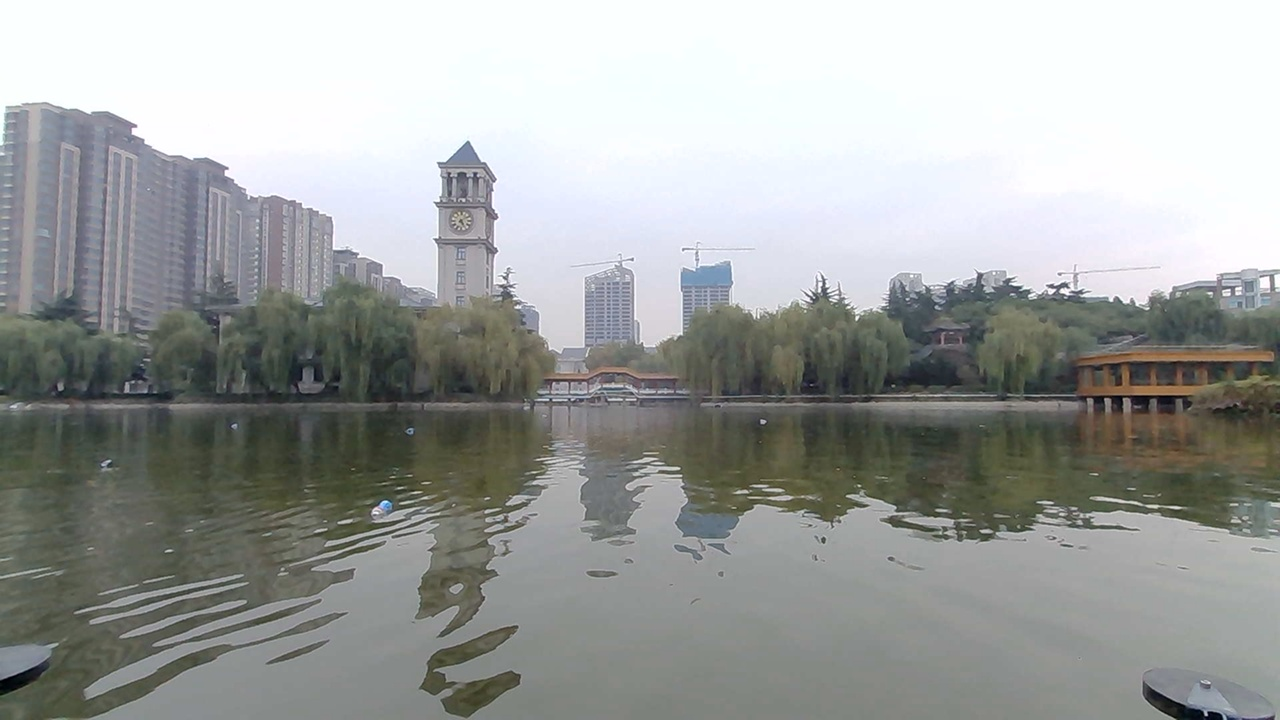bottle: (365, 495, 420, 528), (396, 407, 435, 440), (91, 454, 131, 483), (226, 407, 260, 437), (743, 408, 781, 431)
